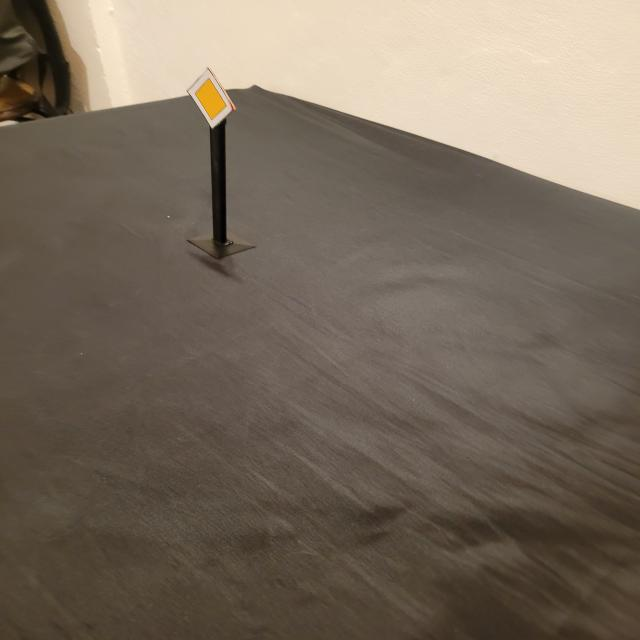priority: (185, 66, 236, 130)
